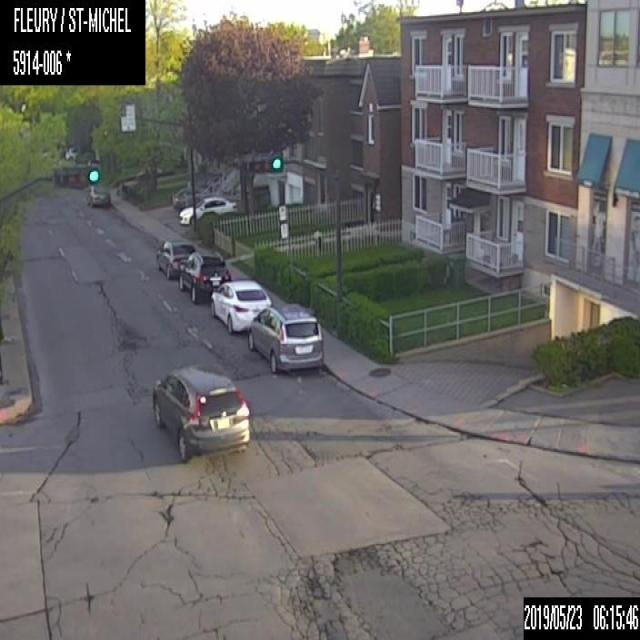vehicle: (151, 359, 250, 461), (250, 302, 324, 373), (208, 277, 273, 334), (176, 246, 232, 304), (178, 193, 238, 226), (154, 238, 196, 284), (85, 182, 110, 206)
